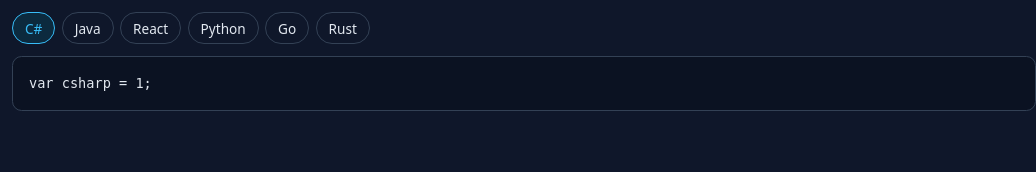
CodeExamples › switches the snippet when another language is selected
Click the tab "Rust": (343, 28) [316, 12, 370, 44]
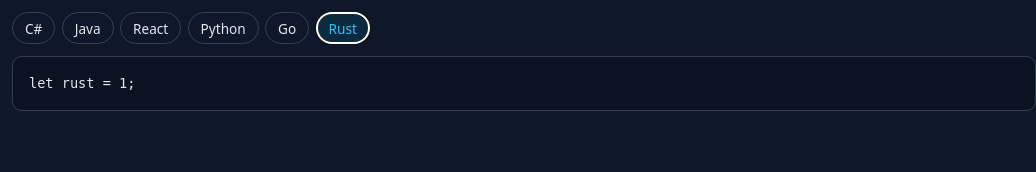
Now the panel reads "let rust = 1;", box [29, 75, 135, 91]
